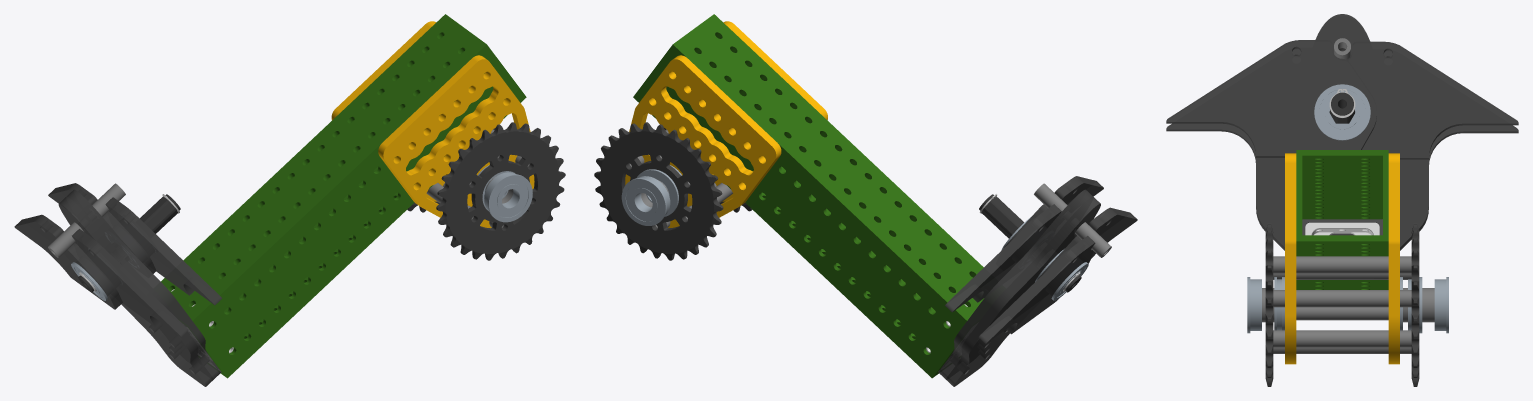
3 renders of one model, left to right at view 1: azimuth 30°, elevation 25°; view 2: azimuth 150°, elevation 25°; view 3: azimuth 270°, elevation 25°, orthographic. The views are drawn at different scales.
Visible parts, largest first — view 1: Climb Tube, Climb to Mount Gusset (×2), 28t Bearing Bore Plate 35 Chain Sprocket (217-2653), Arrowhead climb plate (×4), Mid plate arrohead (×2), .5" Round ID 1.125" OD Flanged Bearing (217-2731), Shaft, 2nd Stage Motor Plate Big Spacers; view 2: Climb Tube, Climb to Mount Gusset (×2), 28t Bearing Bore Plate 35 Chain Sprocket (217-2653), Arrowhead climb plate (×4), Mid plate arrohead (×2), .5" Round ID 1.125" OD Flanged Bearing (217-2731) (×2), Shaft, 2nd Stage Motor Plate Big Spacers; view 3: Arrowhead climb plate (×4), Climb Tube, Mid plate arrohead (×2), Climb to Mount Big Spacer (×6), Climb to Mount Gusset (×2), 28t Bearing Bore Plate 35 Chain Sprocket (217-2653) (×2), .5" Round ID 1.125" OD Flanged Bearing (217-2731) (×3), .5" Hex ID 1.125" OD Flanged Bearing (217-2734), 2" x 2" Tube Plug 0.060" Wall, #10-32 Tapped (WCP-0373), Shaft, Spacer for Big Climb Sprocket, 2nd Stage Motor Plate Big Spacers.
Boxes of the visible parts, bbox=[...] form: Climb Tube: bbox=[161, 14, 526, 378]; Climb to Mount Gusset (×2): bbox=[331, 21, 534, 228]; 28t Bearing Bore Plate 35 Chain Sprocket (217-2653): bbox=[436, 122, 565, 260]; Arrowhead climb plate (×4): bbox=[14, 183, 222, 336]; Mid plate arrohead (×2): bbox=[58, 189, 220, 386]; .5" Round ID 1.125" OD Flanged Bearing (217-2731): bbox=[484, 172, 532, 222]; Shaft: bbox=[78, 194, 180, 292]; 2nd Stage Motor Plate Big Spacers: bbox=[48, 222, 83, 257]; Climb Tube: bbox=[633, 14, 984, 378]; Climb to Mount Gusset (×2): bbox=[625, 21, 827, 227]; 28t Bearing Bore Plate 35 Chain Sprocket (217-2653): bbox=[594, 122, 723, 260]; Arrowhead climb plate (×4): bbox=[945, 176, 1137, 343]; Mid plate arrohead (×2): bbox=[938, 189, 1100, 386]; .5" Round ID 1.125" OD Flanged Bearing (217-2731) (×2): bbox=[621, 169, 678, 225]; Shaft: bbox=[979, 194, 1081, 292]; 2nd Stage Motor Plate Big Spacers: bbox=[1075, 222, 1111, 257]; Arrowhead climb plate (×4): bbox=[1166, 40, 1518, 164]; Climb Tube: bbox=[1296, 150, 1388, 289]; Mid plate arrohead (×2): bbox=[1256, 14, 1428, 250]; Climb to Mount Big Spacer (×6): bbox=[1296, 256, 1388, 353]; Climb to Mount Gusset (×2): bbox=[1285, 153, 1399, 364]; 28t Bearing Bore Plate 35 Chain Sprocket (217-2653) (×2): bbox=[1265, 223, 1419, 386]; .5" Round ID 1.125" OD Flanged Bearing (217-2731) (×3): bbox=[1247, 277, 1448, 333]; .5" Hex ID 1.125" OD Flanged Bearing (217-2734): bbox=[1314, 84, 1370, 140]; 2" x 2" Tube Plug 0.060" Wall, #10-32 Tapped (WCP-0373): bbox=[1302, 219, 1382, 235]; Shaft: bbox=[1329, 89, 1355, 123]; Spacer for Big Climb Sprocket: bbox=[1403, 288, 1434, 322]; 2nd Stage Motor Plate Big Spacers: bbox=[1334, 38, 1350, 59].
Size of the model in its own units: 0.341 by 0.1899 by 0.1943.
